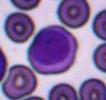M: (28, 24, 78, 74)
